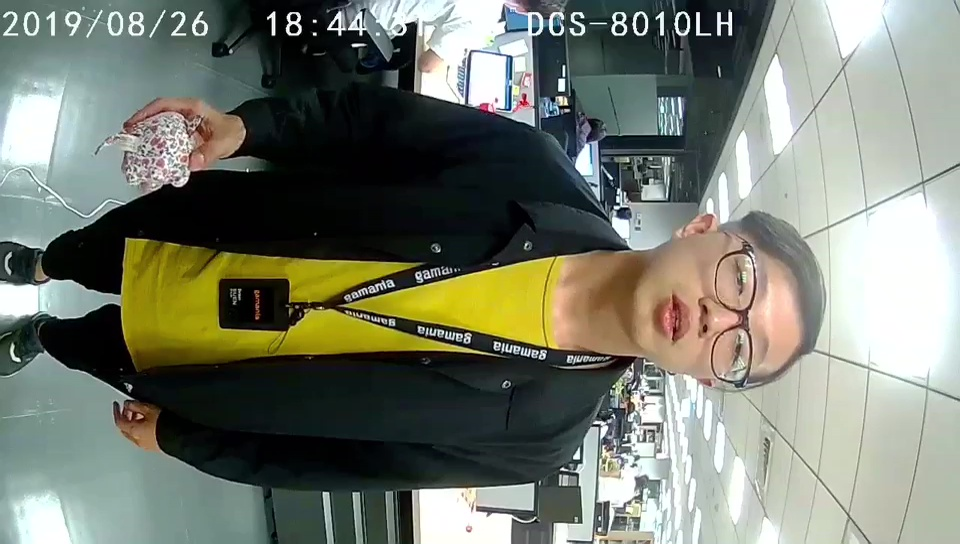pig: (123, 109, 202, 192)
